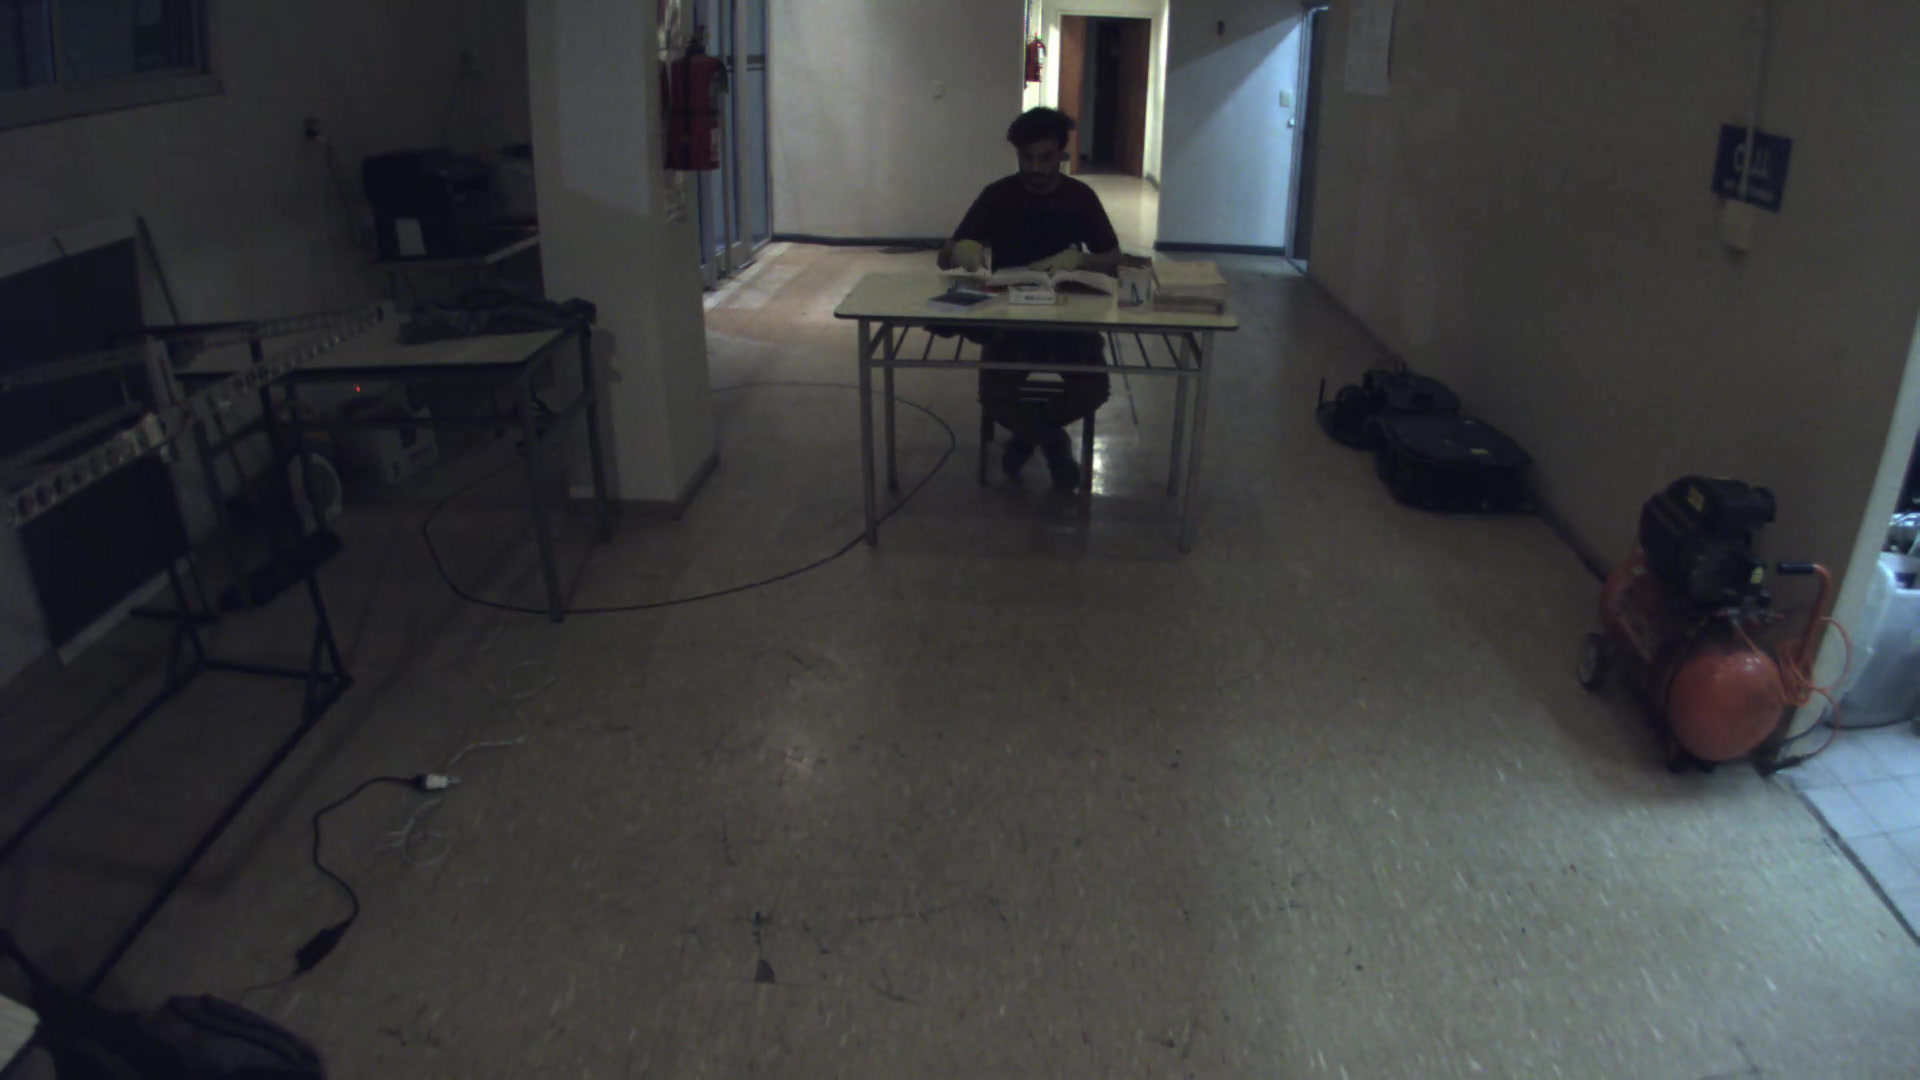hand: (943, 229, 992, 278), (1019, 243, 1083, 278)
